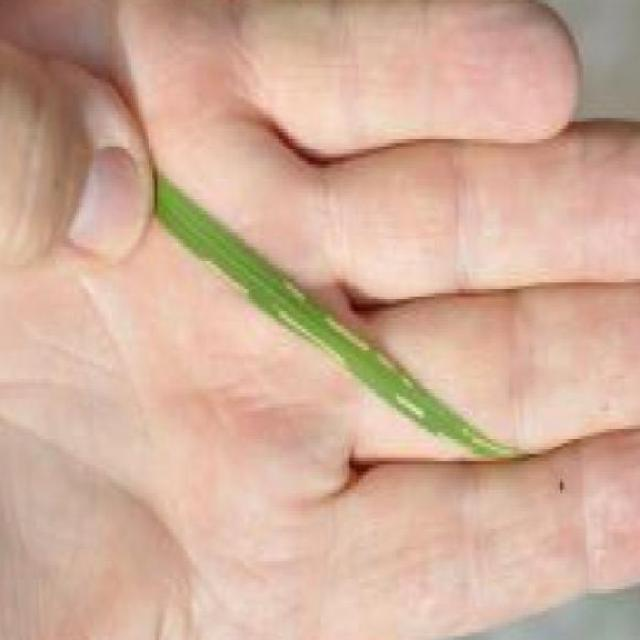brown plant hopper: (328, 324, 366, 350)
